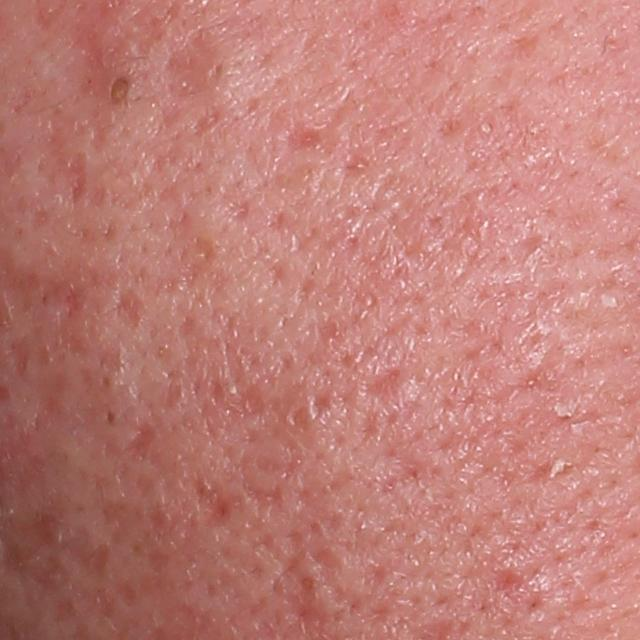atrophic_scar: (170, 309, 324, 520), (338, 170, 417, 265), (282, 86, 354, 166), (136, 236, 218, 303), (361, 359, 407, 422), (107, 412, 156, 468), (195, 492, 238, 534), (112, 284, 147, 331)
comedo: (105, 73, 133, 109), (101, 408, 119, 427)
